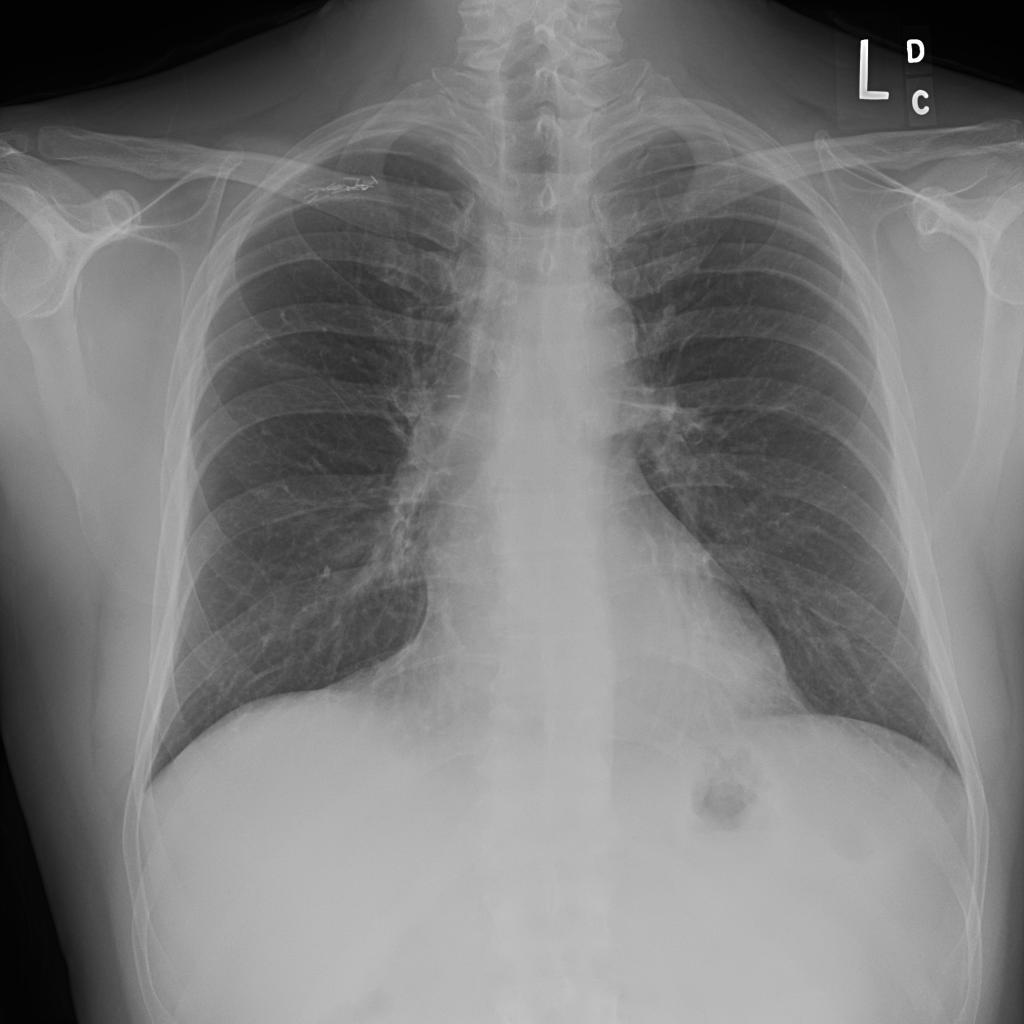Nodule: (197, 264, 227, 300)
